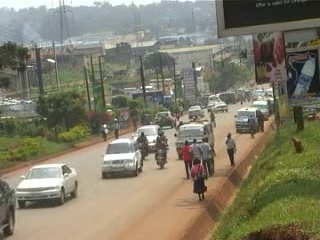Car: (12, 163, 82, 209), (98, 136, 146, 178), (0, 176, 18, 238), (132, 120, 164, 152), (151, 107, 181, 130), (210, 99, 233, 112), (187, 104, 204, 119)
Motorcycle: (153, 143, 170, 170), (154, 134, 169, 153), (136, 137, 147, 161)
